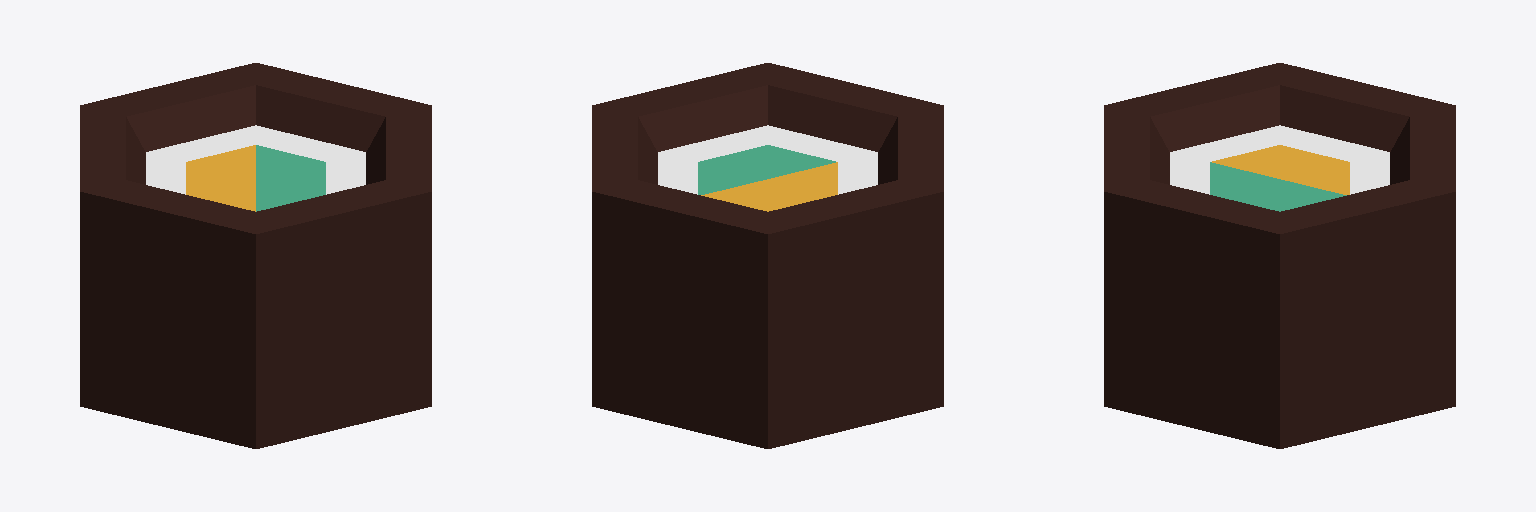
The model's file is makiVegetable.obj.
The picture shows the model from 3 angles: view 1: azimuth 30°, elevation 25°; view 2: azimuth 150°, elevation 25°; view 3: azimuth 270°, elevation 25°; orthographic projection.
Parts seen in each view (by area): view 1: makiVegetable; view 2: makiVegetable; view 3: makiVegetable.
Boxes of the visible parts, <box> form: makiVegetable: <box>80,63,431,448</box>; makiVegetable: <box>592,63,943,448</box>; makiVegetable: <box>1104,63,1455,448</box>.
Bounding box in the file's own units: 0.12 × 0.07 × 0.1039.